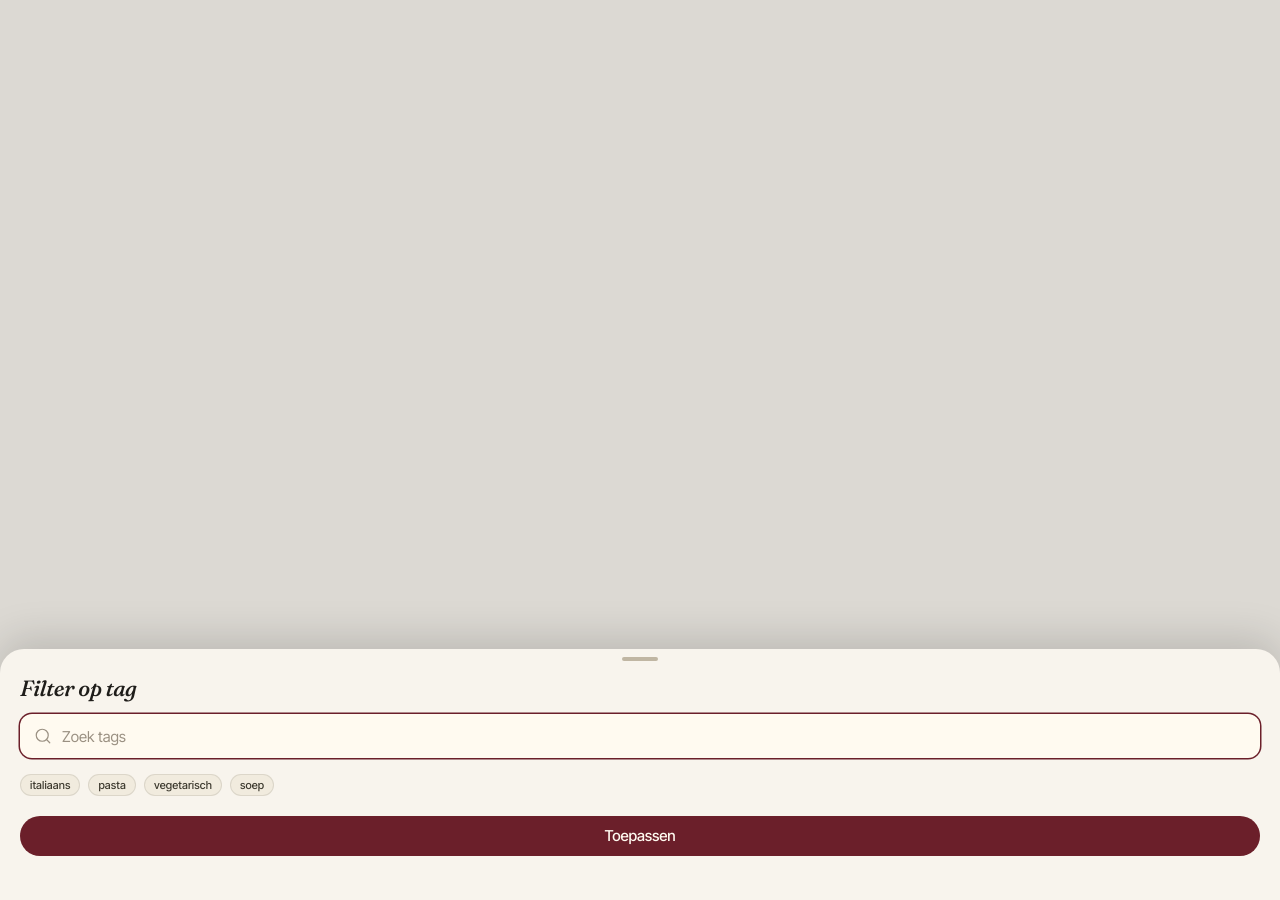
Scenario: FilterSheet › shows no-match message when search has no results
In the field with placeholder "Zoek tags": x=640, y=736 [20,714,1260,758], type "xyzxyz"
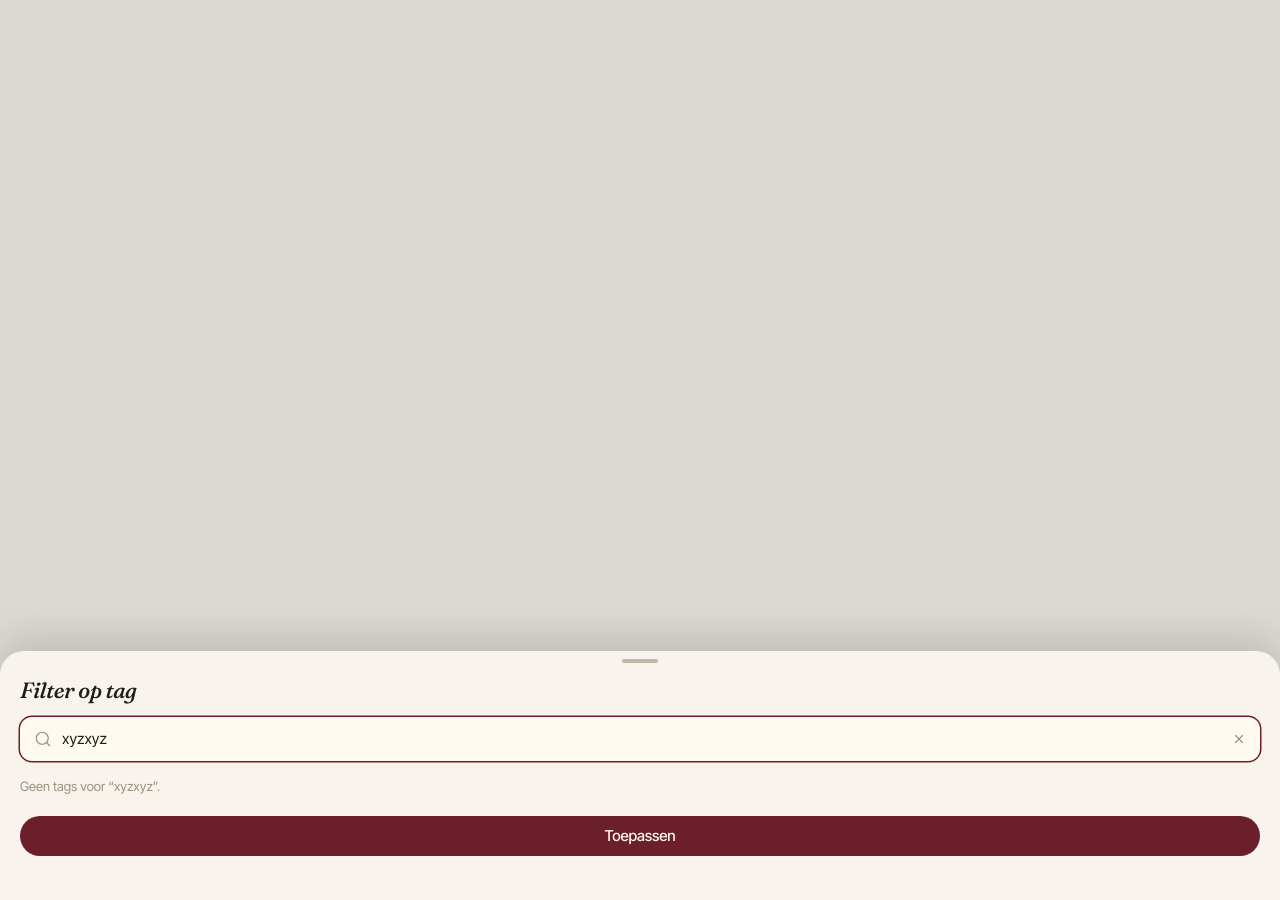
Now the text "Geen tags voor “xyzxyz”." is shown, box [20,776,160,796]
